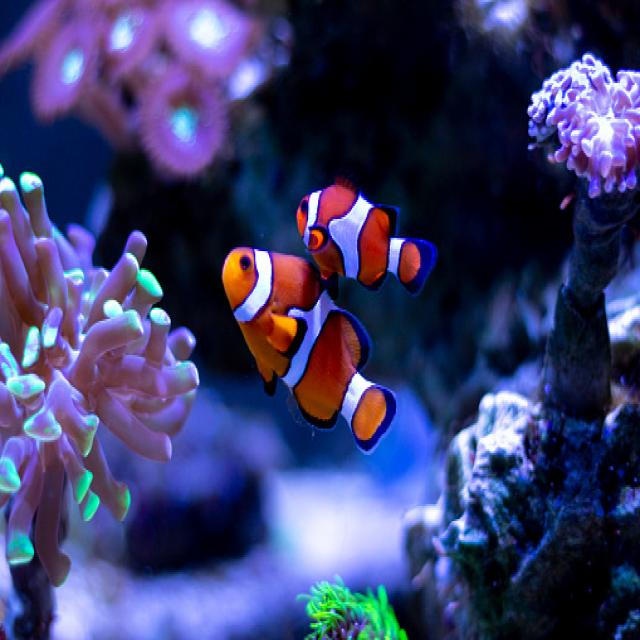ClownFish: (222, 246, 396, 454), (297, 176, 435, 295)
